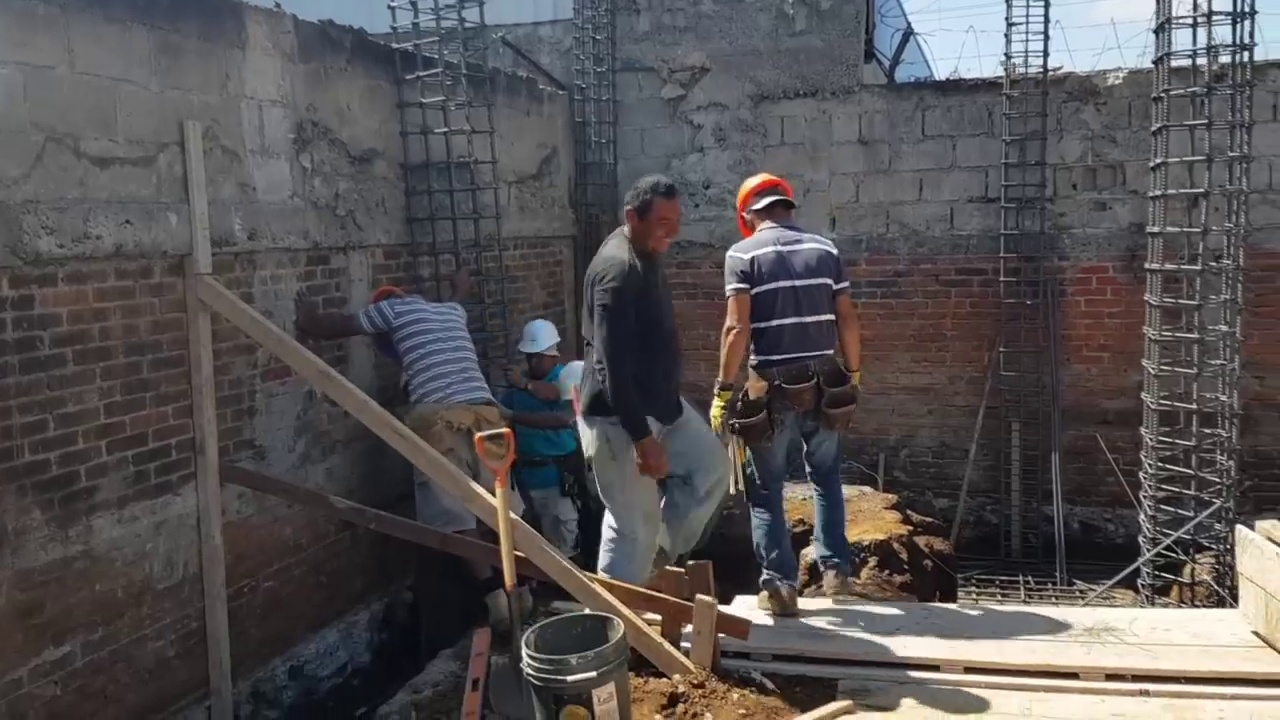helmet: (732, 172, 799, 229), (514, 321, 559, 355)
helmet-off: (625, 174, 683, 258)
helmet-on: (734, 168, 801, 241), (513, 319, 560, 384), (368, 280, 407, 322)
person: (718, 166, 866, 610), (589, 166, 722, 604), (315, 272, 506, 556), (503, 323, 588, 562)
